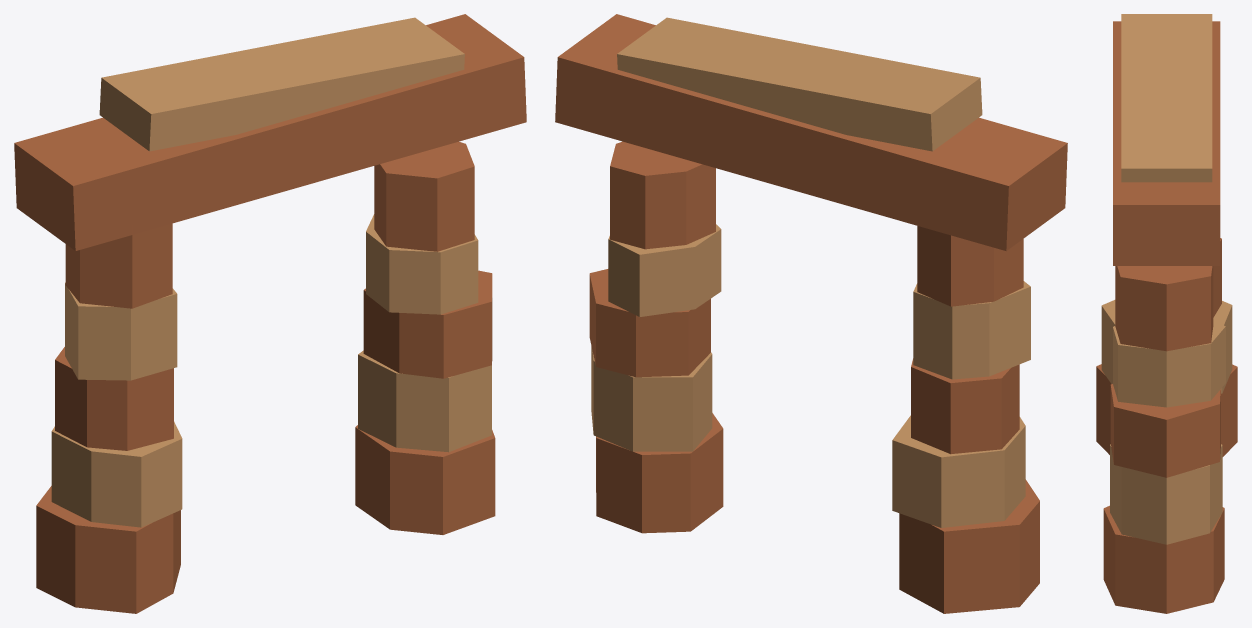
Rendered from DE_Rock_DesertArch.obj.
3 views of the same model, side by side, from view 1: azimuth 30°, elevation 25°; view 2: azimuth 150°, elevation 25°; view 3: azimuth 270°, elevation 25° (orthographic). The views are drawn at different scales.
Visible parts, largest first — view 1: lintel, lintel_top, pillar_l_0, pillar_r_0, pillar_l_1, pillar_r_1, pillar_r_4, pillar_r_2, pillar_l_2, pillar_l_3, pillar_r_3, pillar_l_4; view 2: lintel, lintel_top, pillar_l_0, pillar_r_0, pillar_l_1, pillar_r_4, pillar_r_1, pillar_l_3, pillar_r_2, pillar_l_2, pillar_r_3, pillar_l_4; view 3: lintel_top, lintel, pillar_r_0, pillar_r_4, pillar_r_1, pillar_r_2, pillar_r_3, pillar_l_0, pillar_l_1, pillar_l_2.
Part boxes in pixels (x1,y1,x2,y2): lintel: [14, 14, 526, 250]; lintel_top: [99, 17, 464, 151]; pillar_l_0: [36, 486, 180, 613]; pillar_r_0: [355, 425, 495, 534]; pillar_l_1: [51, 421, 182, 527]; pillar_r_1: [358, 350, 491, 452]; pillar_r_4: [374, 141, 474, 251]; pillar_r_2: [363, 270, 492, 378]; pillar_l_2: [55, 347, 173, 450]; pillar_l_3: [65, 282, 177, 380]; pillar_r_3: [366, 214, 478, 314]; pillar_l_4: [65, 223, 172, 308]; lintel: [555, 14, 1067, 251]; lintel_top: [617, 17, 982, 151]; pillar_l_0: [899, 479, 1039, 613]; pillar_r_0: [596, 413, 723, 533]; pillar_l_1: [892, 415, 1025, 527]; pillar_r_4: [610, 141, 715, 249]; pillar_r_1: [591, 346, 712, 451]; pillar_l_3: [913, 281, 1030, 379]; pillar_r_2: [589, 269, 710, 377]; pillar_l_2: [911, 358, 1019, 454]; pillar_r_3: [608, 224, 721, 316]; pillar_l_4: [917, 226, 1023, 306]; lintel_top: [1121, 14, 1212, 182]; lintel: [1113, 21, 1220, 265]; pillar_r_0: [1103, 505, 1224, 613]; pillar_r_4: [1115, 266, 1213, 351]; pillar_r_1: [1110, 444, 1222, 544]; pillar_r_2: [1110, 384, 1220, 477]; pillar_r_3: [1113, 322, 1225, 407]; pillar_l_0: [1096, 364, 1237, 456]; pillar_l_1: [1101, 300, 1232, 393]; pillar_l_2: [1213, 238, 1221, 317].
Bounding box in the file's own units: 11.55 × 11.75 × 3.43.
